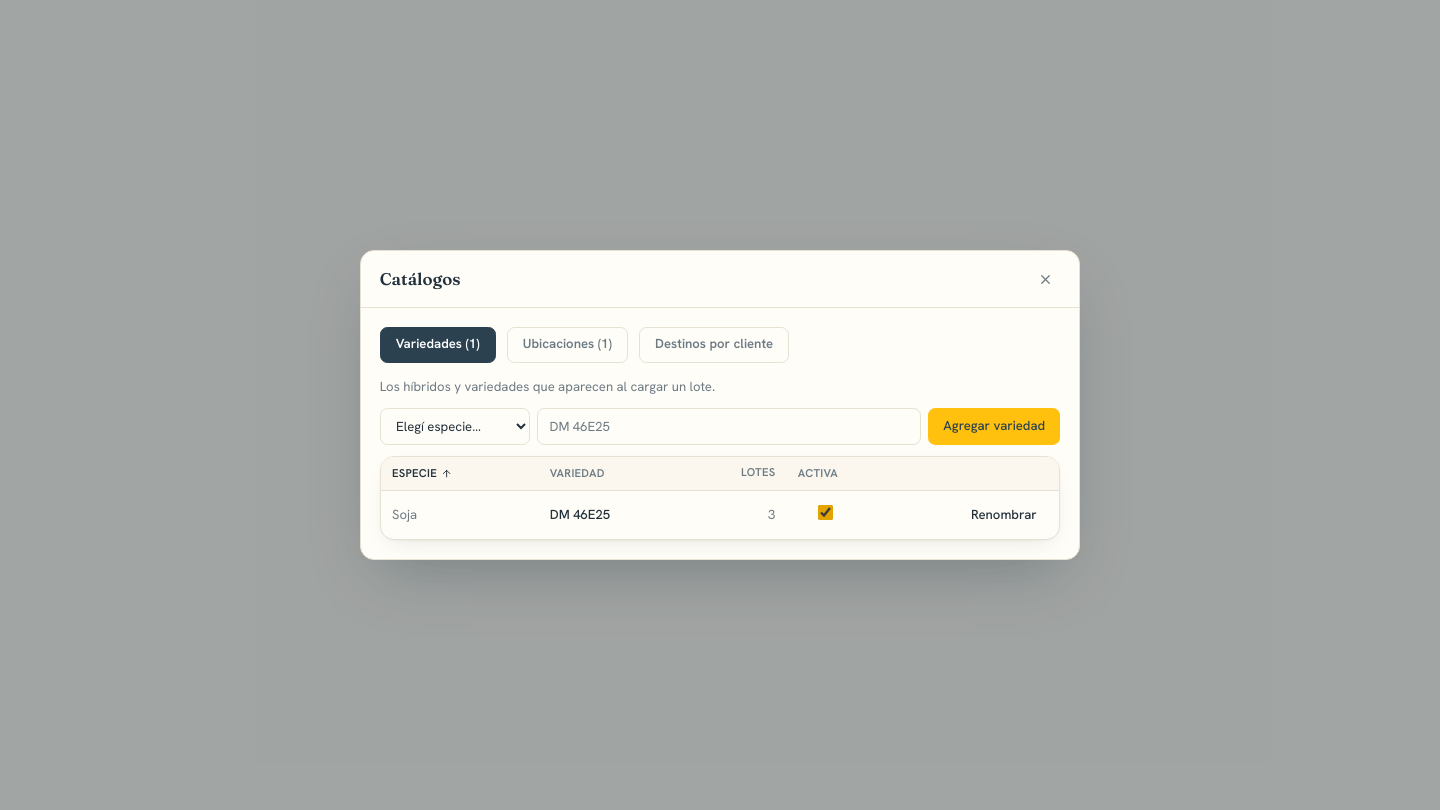
Scenario: CatalogosDialog › si el servidor rechaza (duplicado) muestra el motivo
Click the tab "Ubicaciones (1)". click: (567, 345)
box: [507,327,628,363]
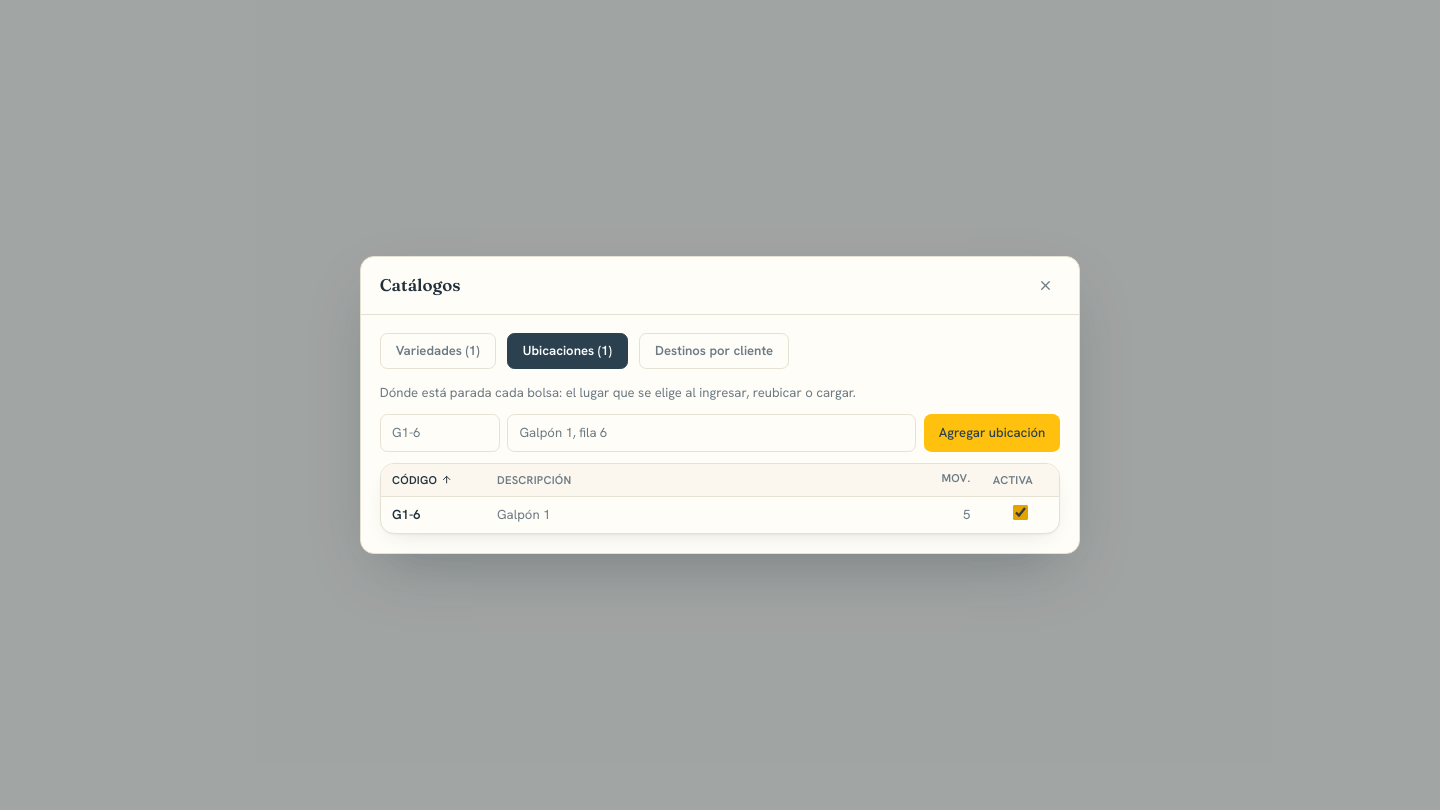
Type "g1-6" into the field named "Nueva ubicación". click: (440, 433)
box: [380,414,500,452]
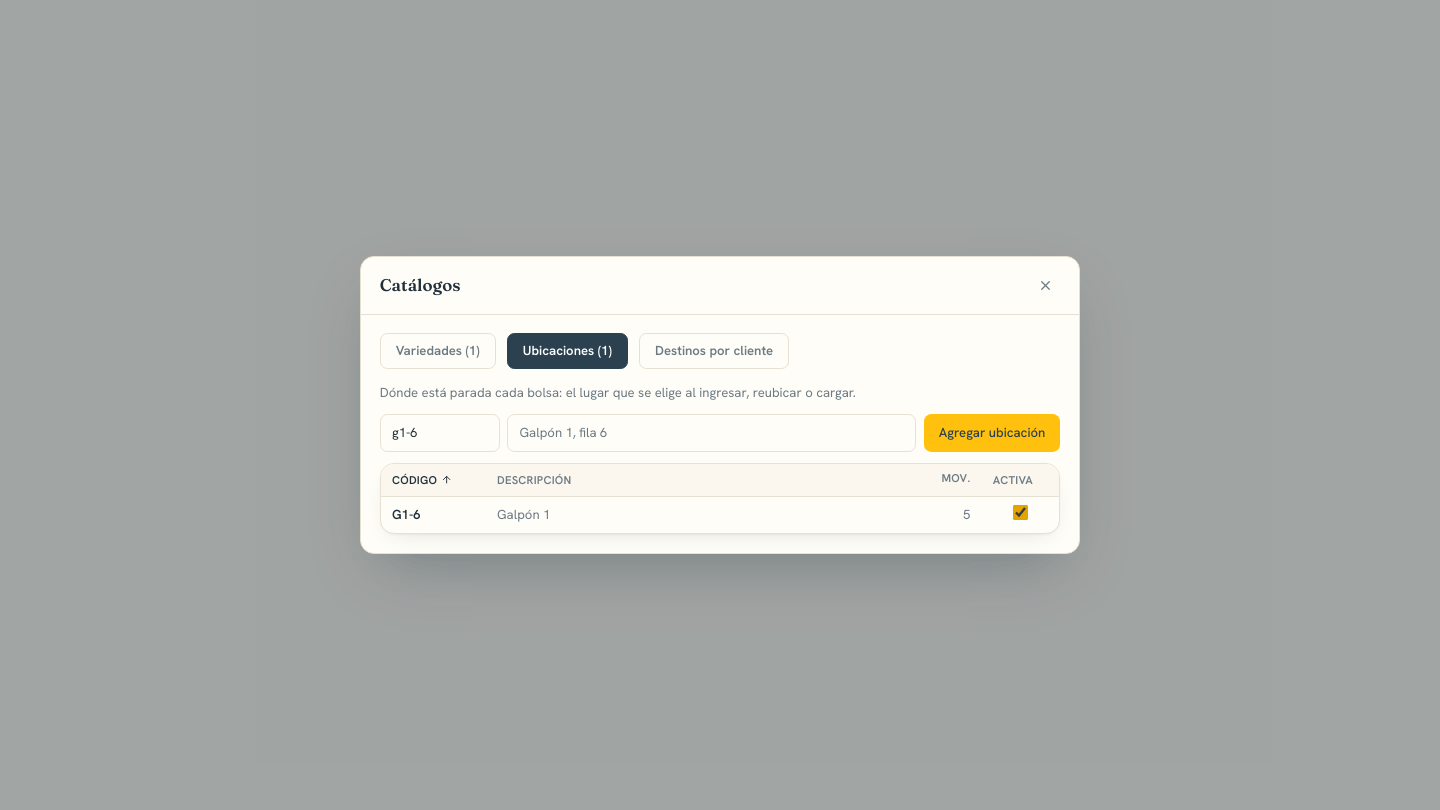
Click the button "Agregar ubicación". click: (992, 433)
box: [924,414,1060,452]
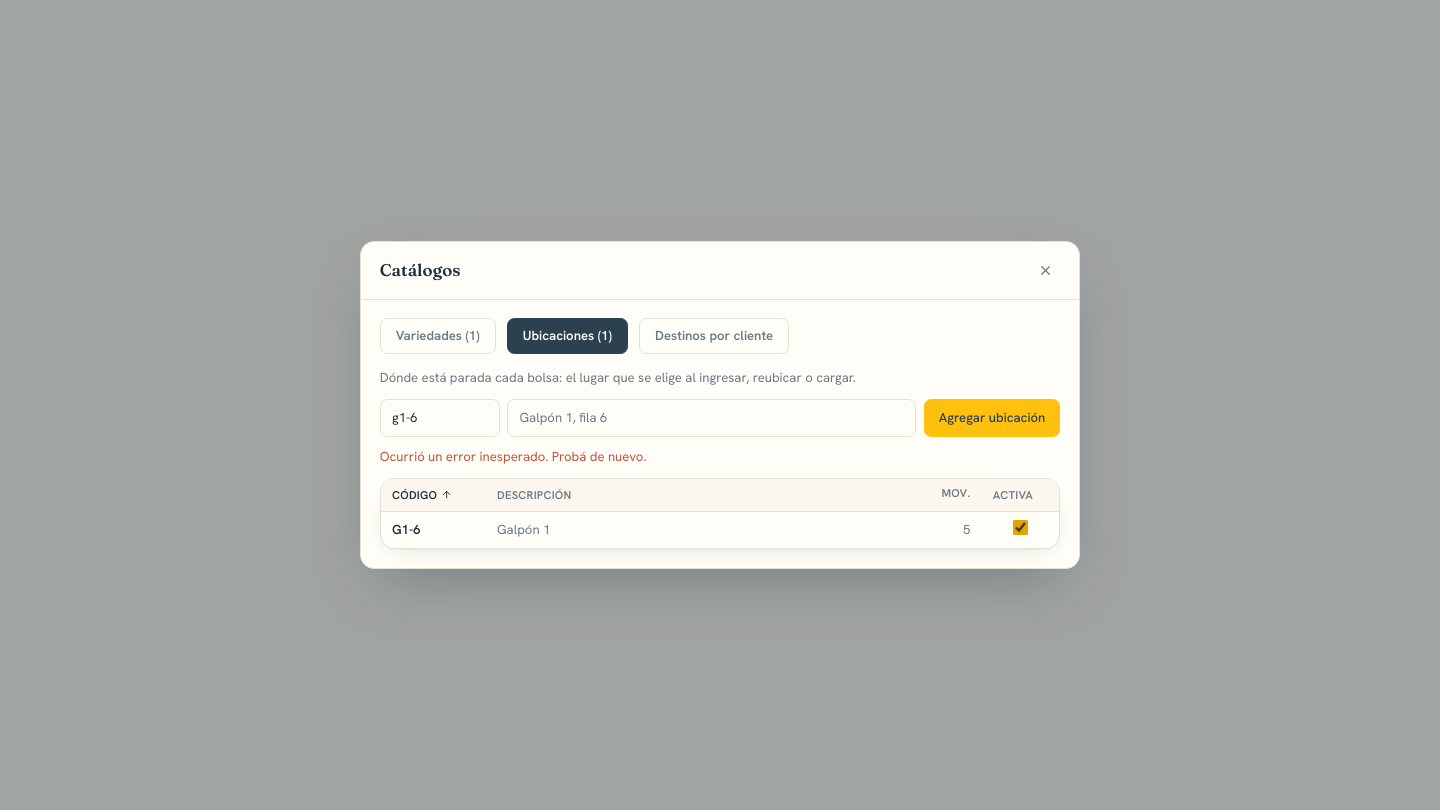
Check: the message "Ocurrió un error inesperado. Probá de nuevo." is shown, box [380,448,647,465]
